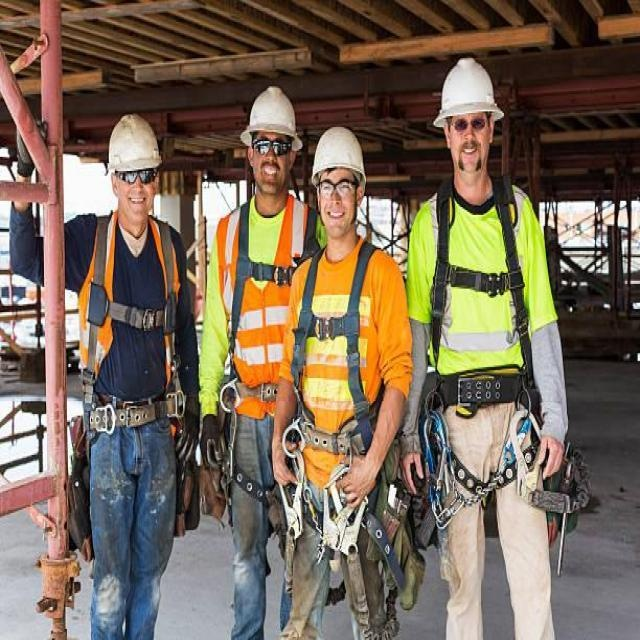Arnes_seguridad: (428, 179, 540, 503), (289, 240, 384, 544), (229, 196, 319, 505), (83, 212, 181, 435)
